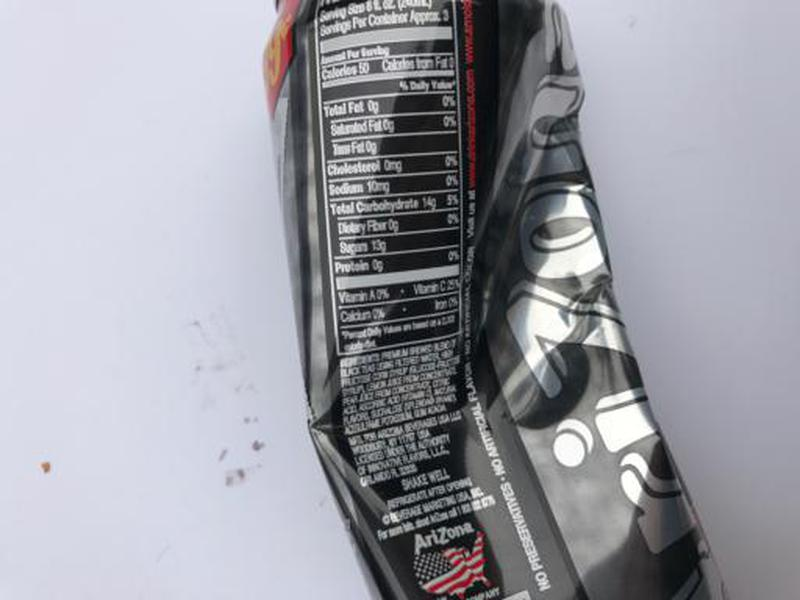can: (247, 1, 740, 600)
